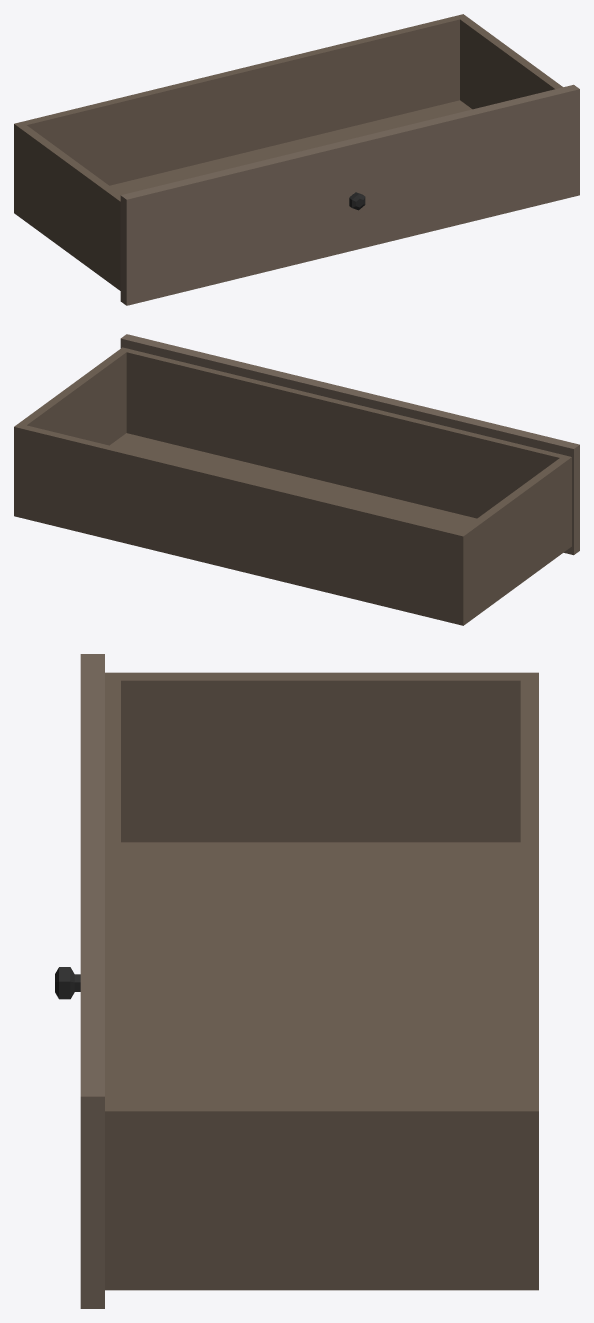
Rendered from Dresser3_C1_02.fbx.
3 views of the same model, one above another, from view 1: azimuth 30°, elevation 25°; view 2: azimuth 150°, elevation 25°; view 3: azimuth 270°, elevation 25° (orthographic). The views are drawn at different scales.
Parts seen in each view (by area): view 1: Dresser3_C1_02; view 2: Dresser3_C1_02; view 3: Dresser3_C1_02.
Boxes of the visible parts, x1,y1,x2,y2 form: Dresser3_C1_02: (14,14,579,305); Dresser3_C1_02: (14,334,579,625); Dresser3_C1_02: (55,654,538,1308).
Size of the model in its own units: 85.7 by 19.18 by 39.65.
